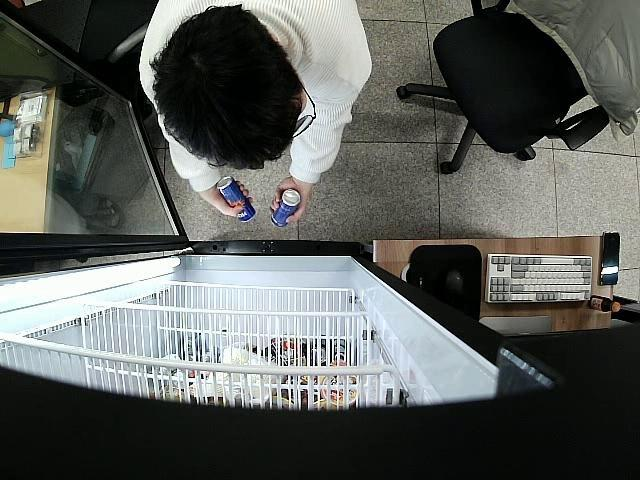16_hot6: (215, 176, 256, 224), (272, 190, 301, 226)
